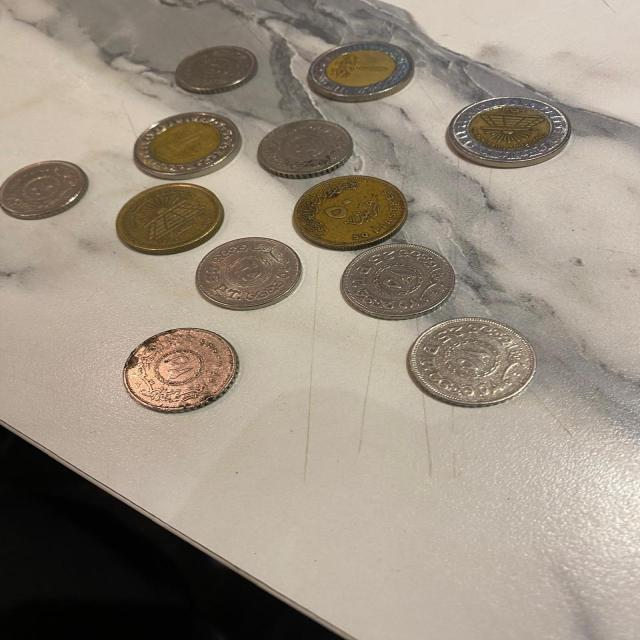Half Pound: (285, 168, 419, 252), (115, 183, 224, 254)
One Pound: (446, 96, 572, 168), (297, 36, 419, 104), (133, 112, 241, 180)
quarter pound: (407, 317, 538, 407), (122, 328, 238, 414), (340, 241, 456, 318), (195, 237, 303, 310), (258, 114, 358, 181), (0, 160, 89, 219), (173, 45, 257, 95)
